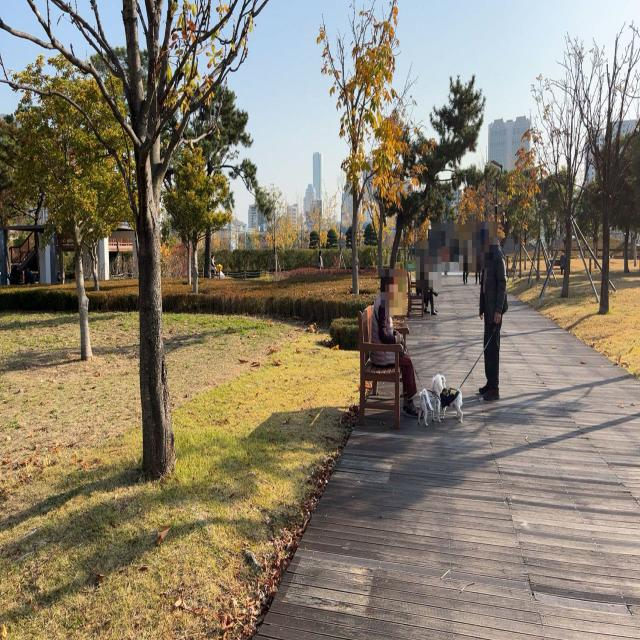Leashed_Dog: (438, 337, 493, 426), (406, 356, 444, 428)
